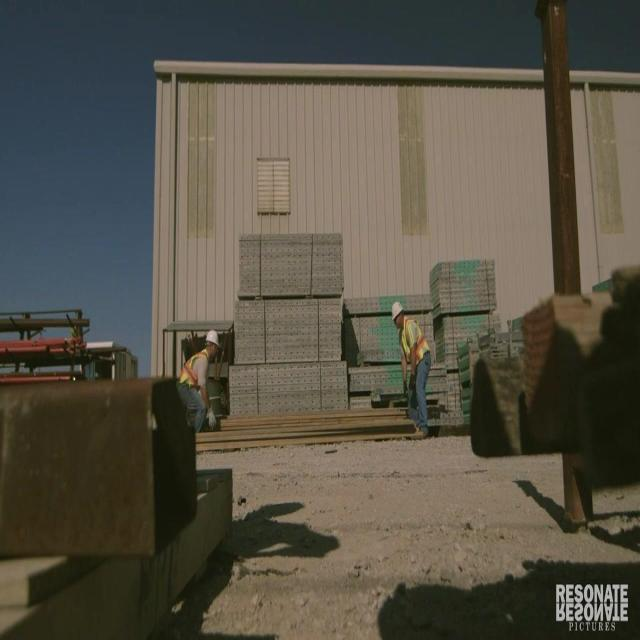Vest: (400, 320, 431, 365), (178, 348, 208, 386)
